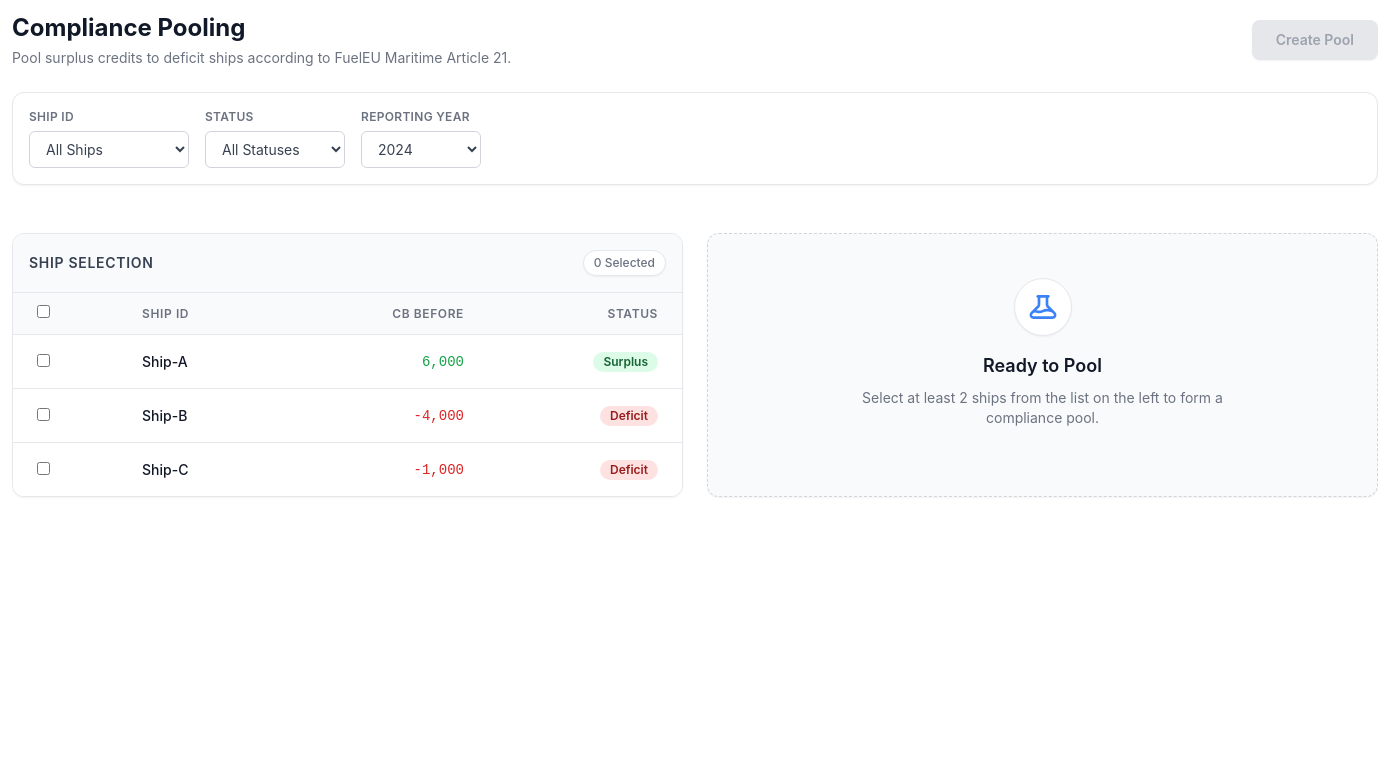
Test: PoolingPage › selects ships and shows valid pool indicator
first checkbox is "select all", next ones are for ships
Click the checkbox next to "Ship-A": (44, 360) x1=37 y1=354 x2=50 y2=366
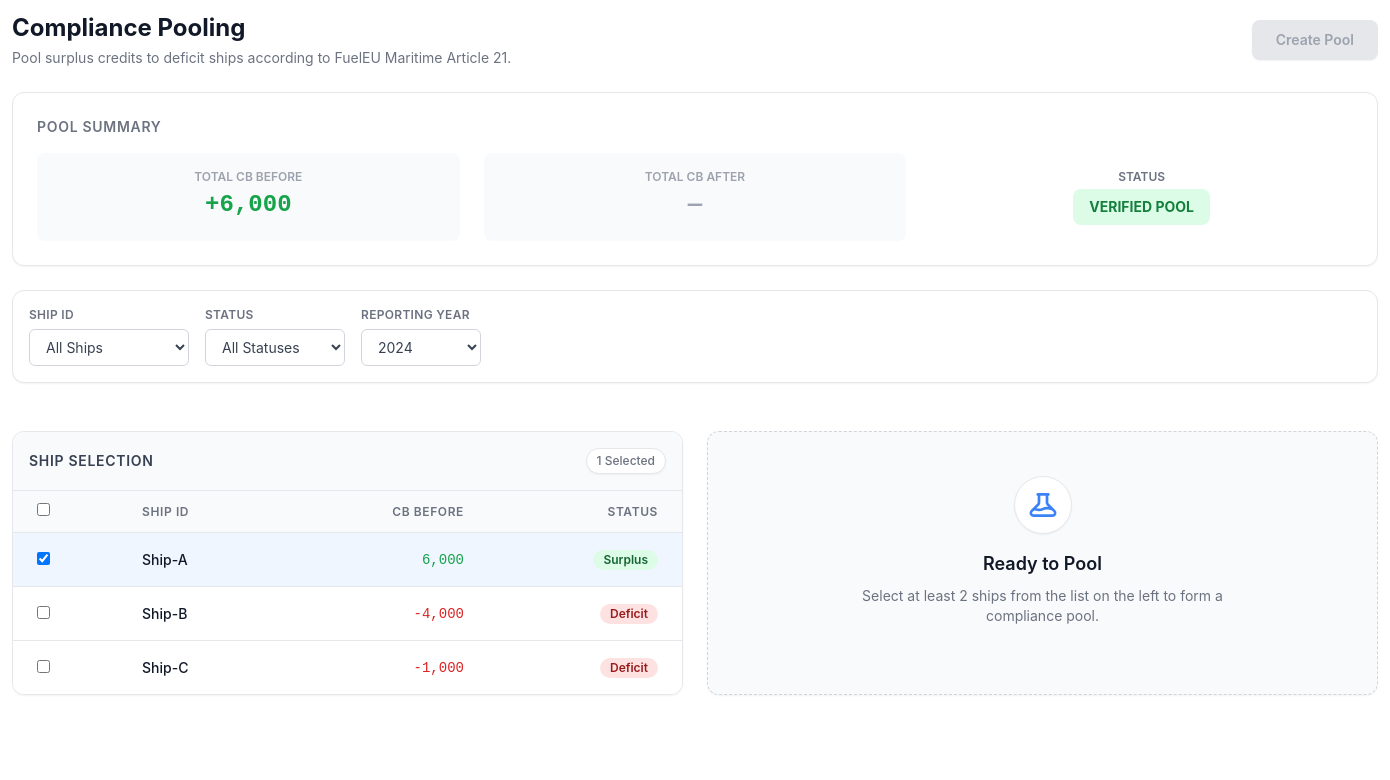
Click the checkbox next to "Ship-B": (44, 612) x1=37 y1=606 x2=50 y2=618
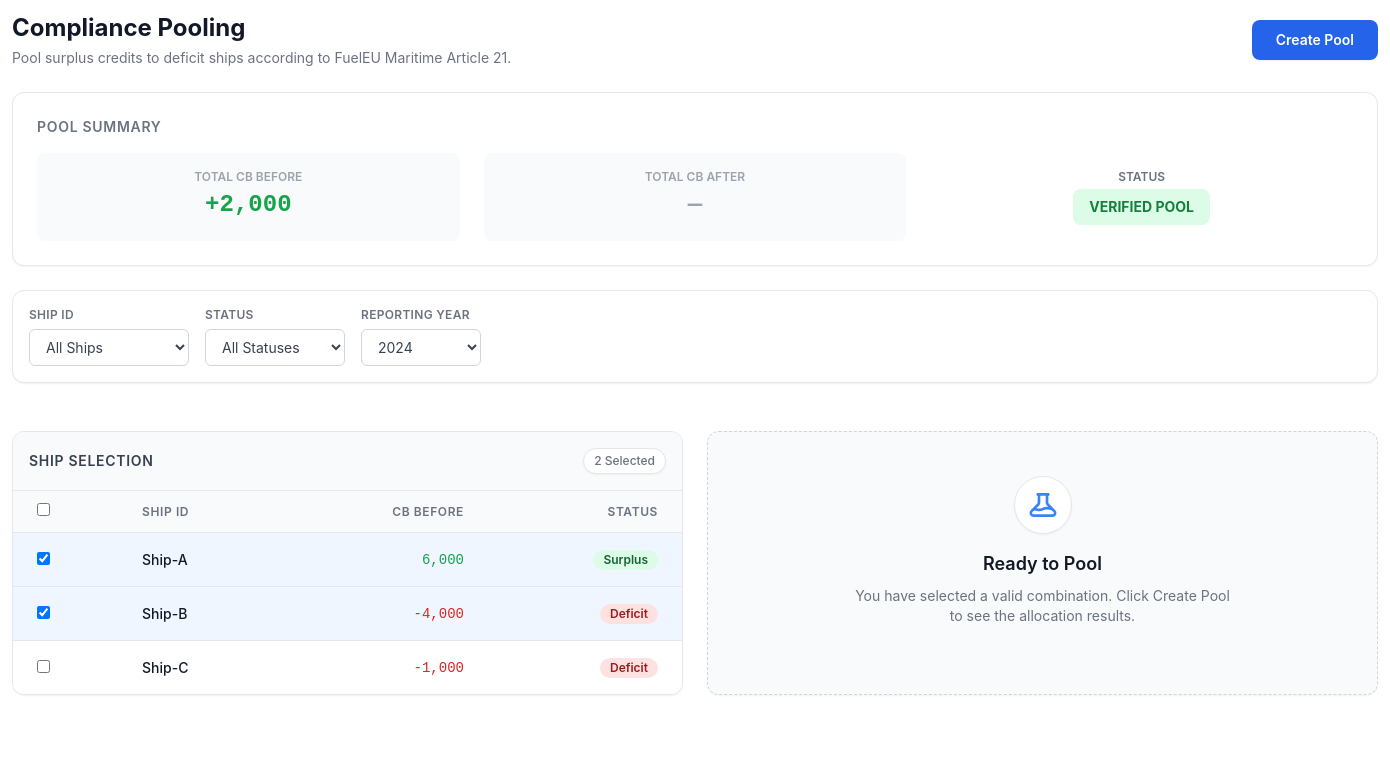
Now the text "VERIFIED POOL" is shown, box x1=1073 y1=189 x2=1210 y2=225
Now the button "Create Pool" is enabled, box x1=1252 y1=20 x2=1378 y2=60
